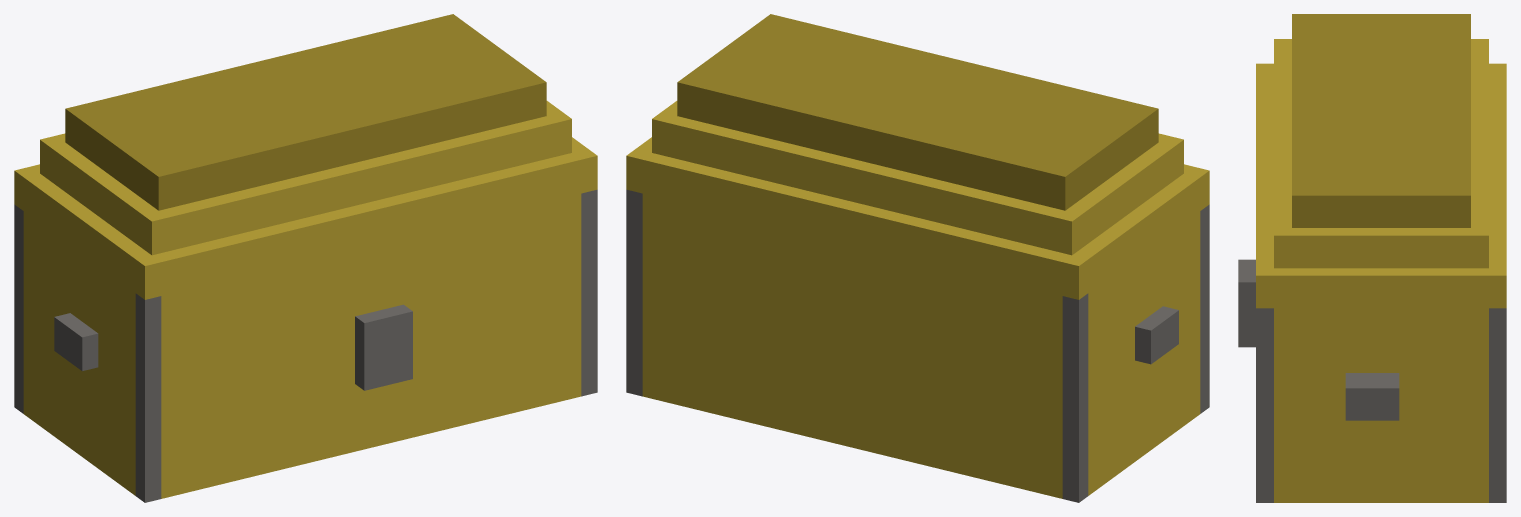
File: arcon_tesoro_01.glb
3 renders of one model, left to right at view 1: azimuth 30°, elevation 25°; view 2: azimuth 150°, elevation 25°; view 3: azimuth 270°, elevation 25°, orthographic. The views are drawn at different scales.
Visible parts, largest first — view 1: arcon_tesoro; view 2: arcon_tesoro; view 3: arcon_tesoro.
Part boxes in pixels (x1,y1,x2,y2): arcon_tesoro: [14, 14, 597, 502]; arcon_tesoro: [626, 14, 1209, 502]; arcon_tesoro: [1238, 14, 1506, 502].
Bounding box in the file's own units: 2.21 × 1.29 × 1.07.
